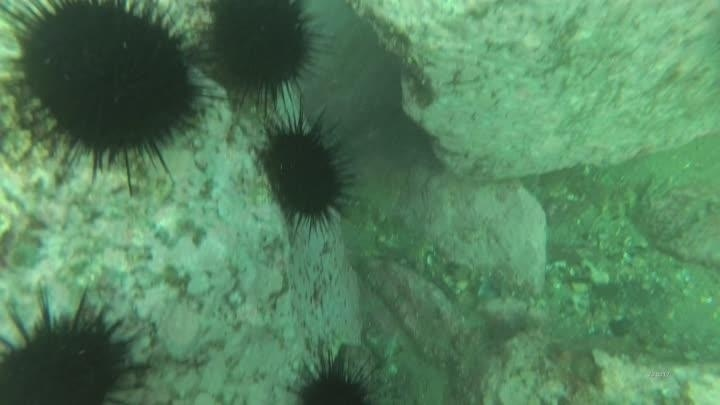echinus: (8, 1, 211, 183), (0, 287, 143, 405), (202, 1, 323, 110), (256, 111, 356, 235), (286, 348, 381, 404)
holothurian: (561, 167, 650, 220)
